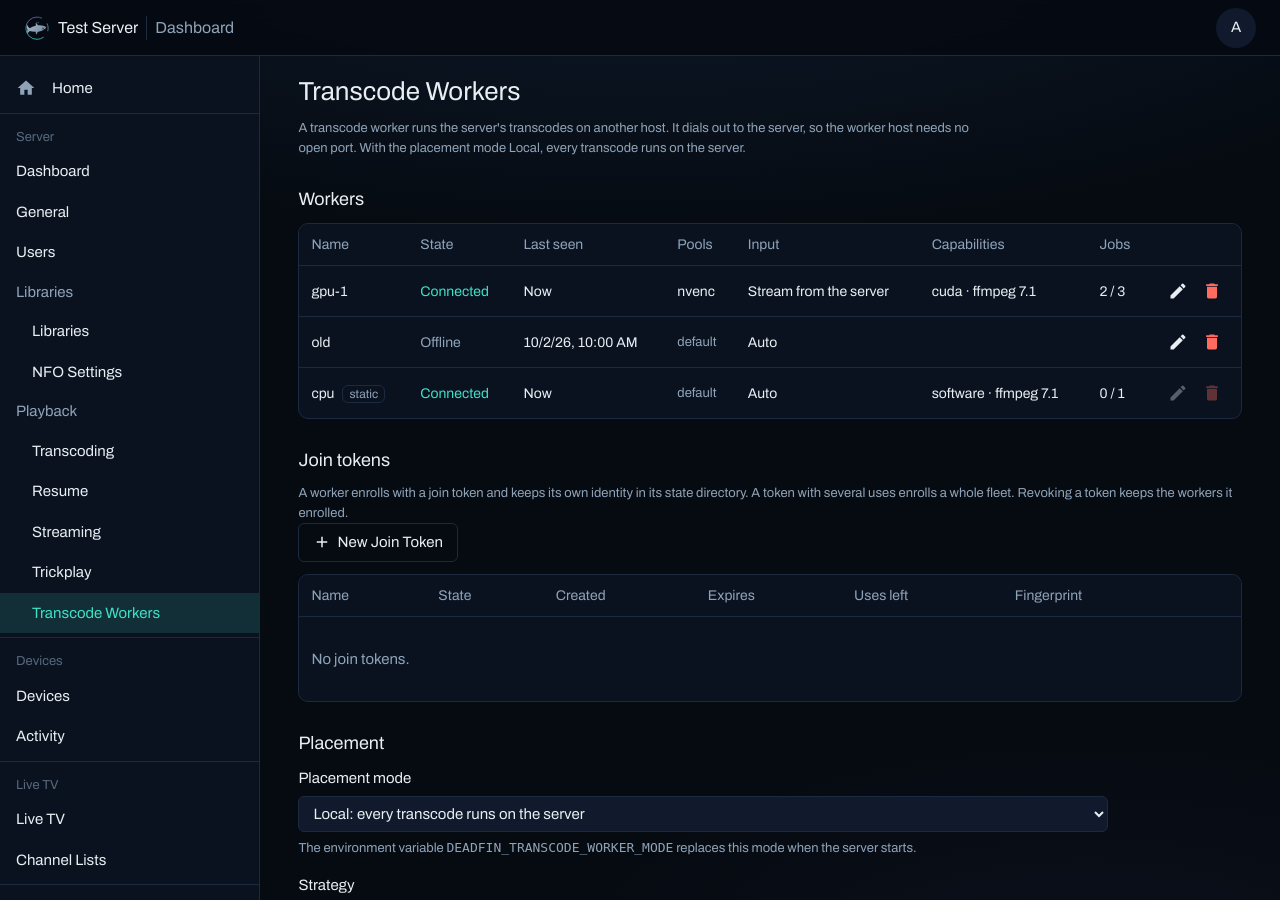
Test: transcode workers page › edits a worker
Click the button named "Edit gpu-1": (1178, 291) 1161,274 -> 1195,308
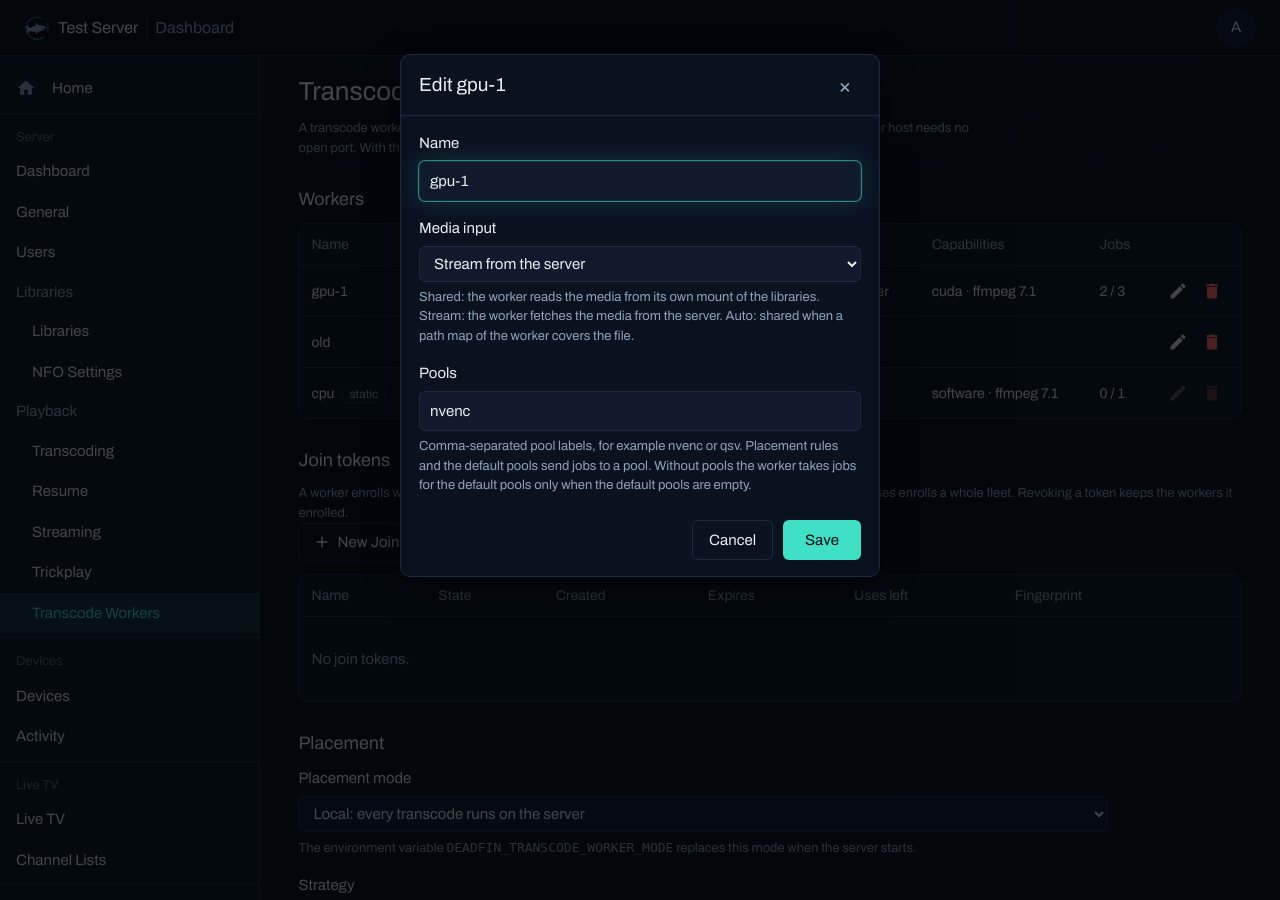
Replace the text in the field labelled "Pools" with "nvenc, QSV": (640, 411) 419,390 -> 861,431
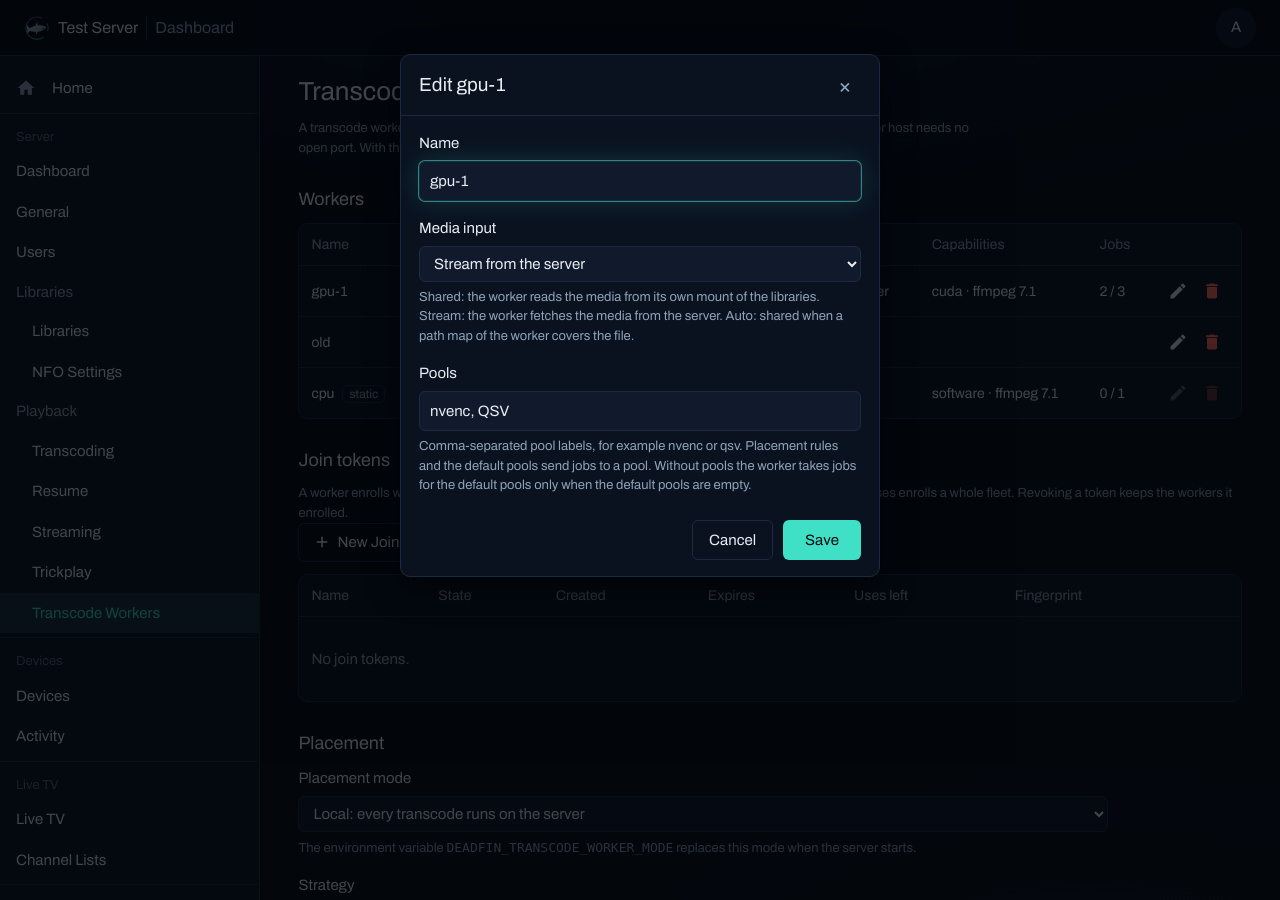
Select "Shared mount" in the dropdown labelled "Media input": (640, 264) 419,246 -> 861,282
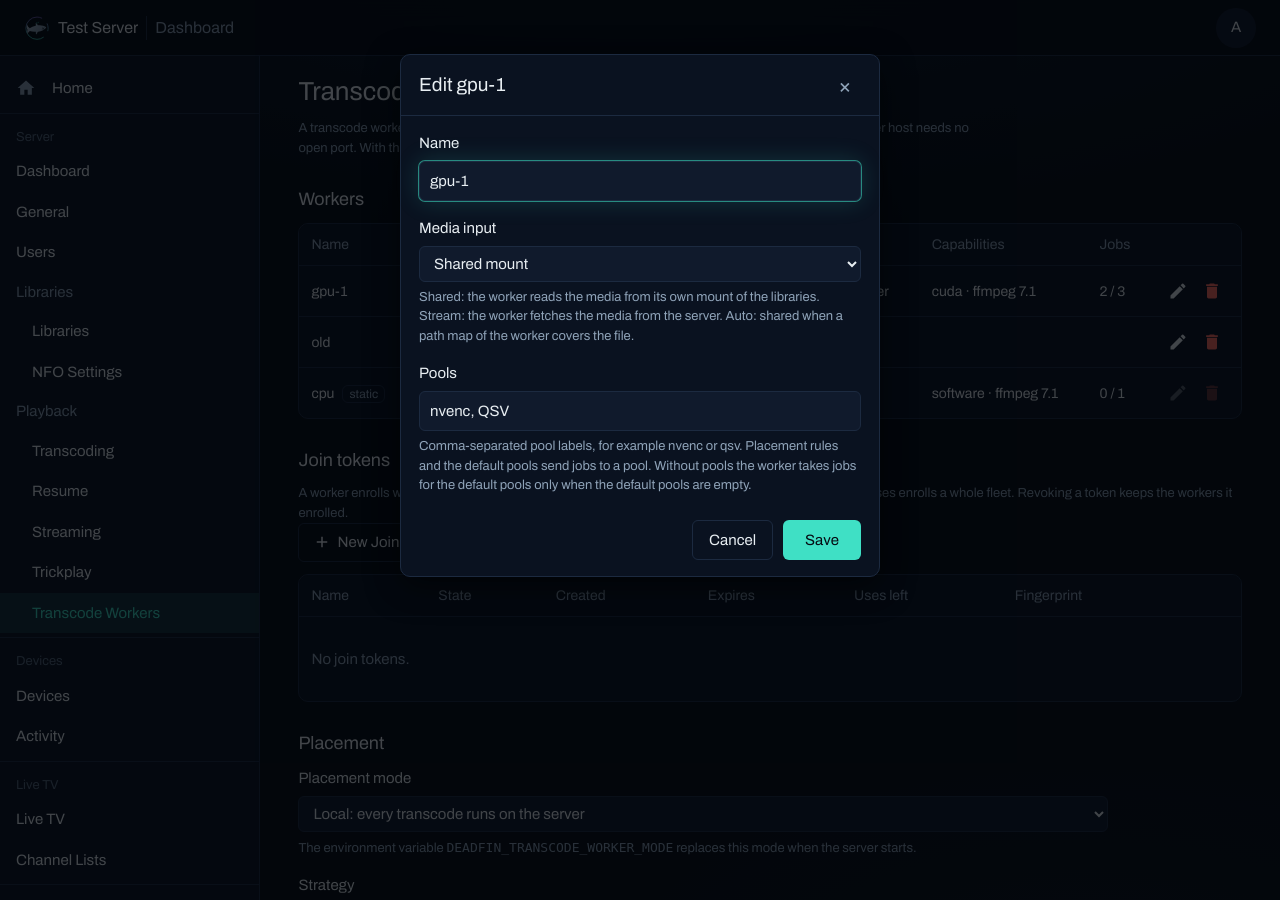
Click the button "Save": (822, 540) 783,520 -> 861,560
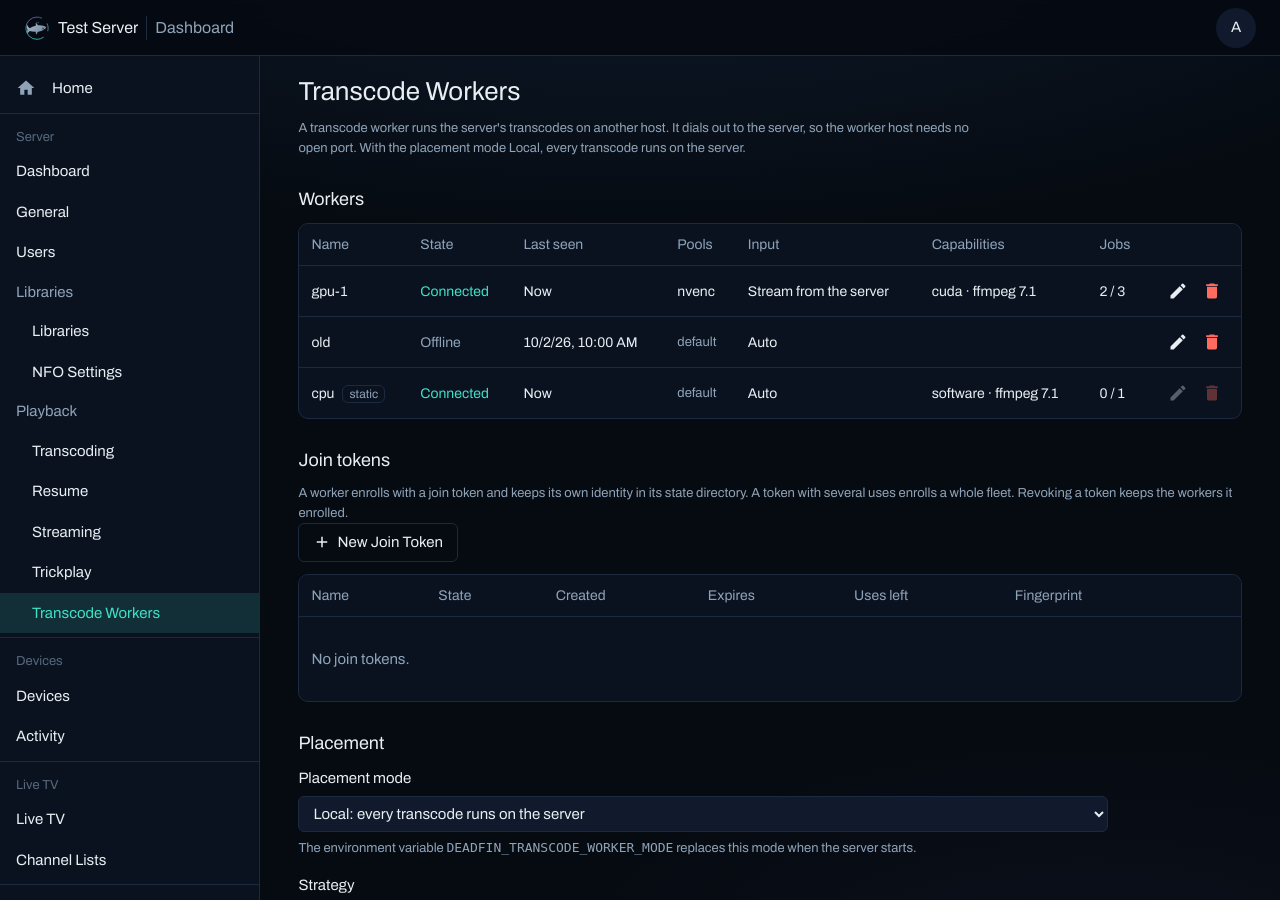
Now the dialog with test id "edit-worker" is gone
